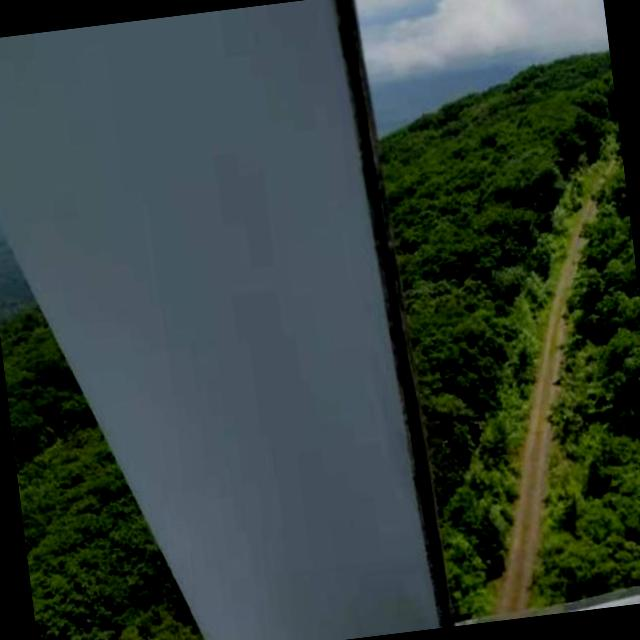crack: (331, 2, 462, 627)
